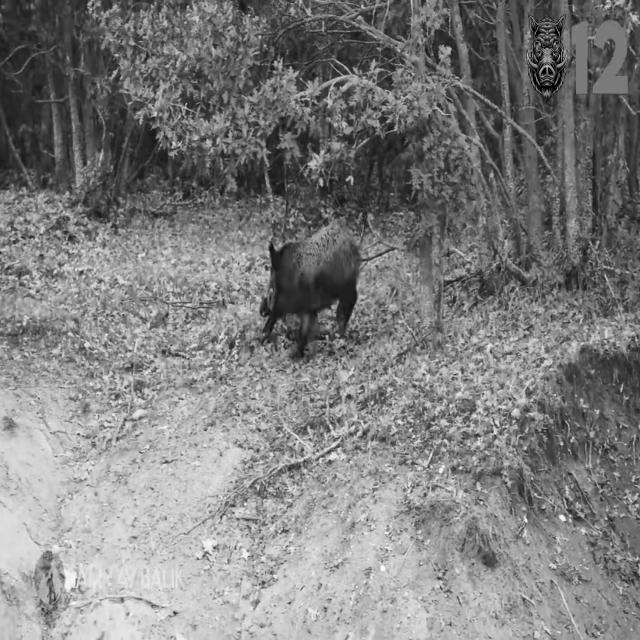boar: (260, 227, 361, 355), (527, 13, 569, 100)
